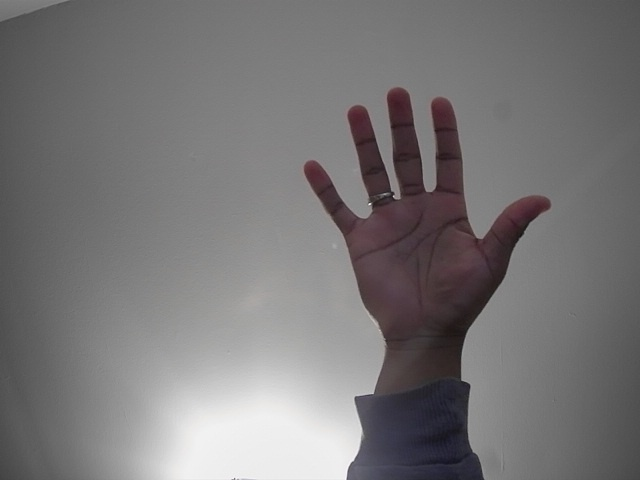Hello: (282, 70, 555, 356)
